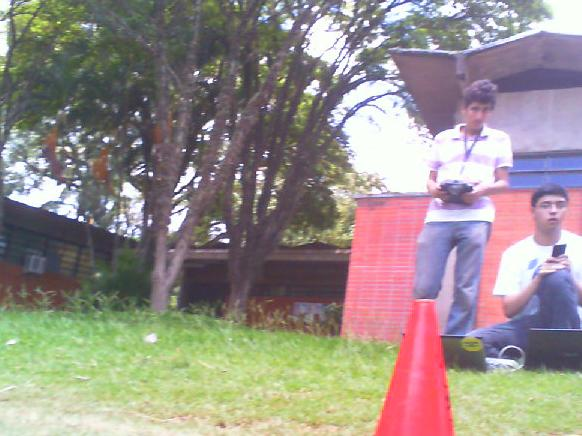0 cone: (370, 300, 455, 436)
